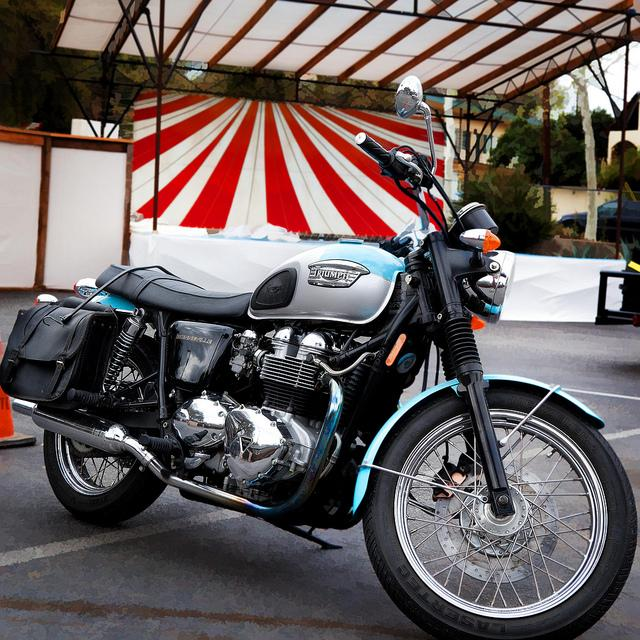motor: (3, 77, 634, 631)
